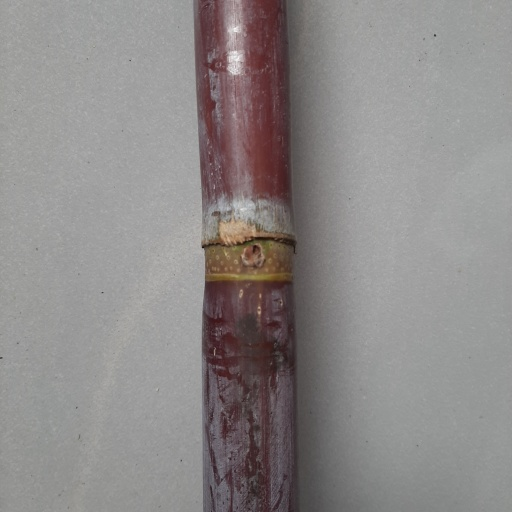Damage_Bud: (239, 242, 265, 269)
